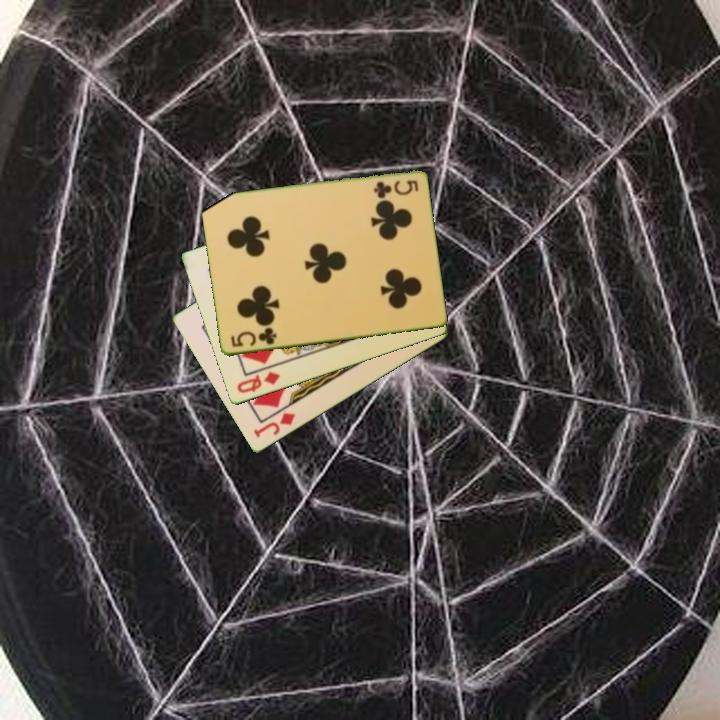5c: (227, 324, 279, 350), (370, 177, 421, 199)
Jd: (250, 409, 299, 441)
Qd: (233, 368, 283, 396)
